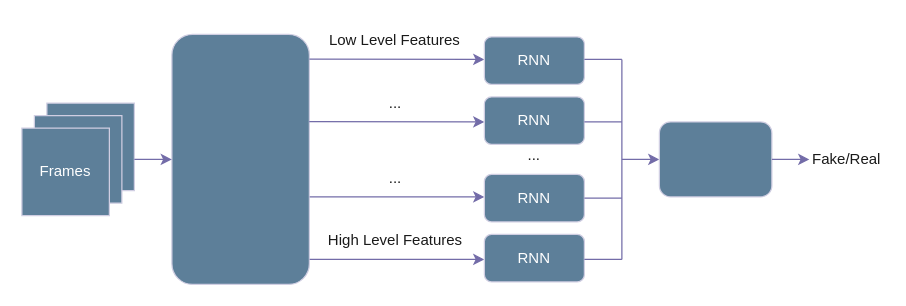
Some shapes in this 906 by 306 pixel diagram are drawn without their labels. Here are the shapes that lost their labels. From the top down, the box of each, then its label:
(171, 33, 309, 284): Image Encoder
(658, 121, 772, 197): Feed Forward
